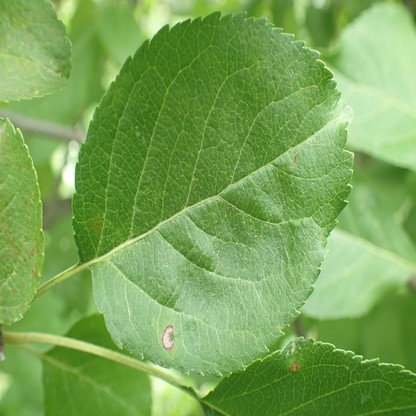frogeye: (162, 324, 175, 349), (290, 362, 301, 374)
